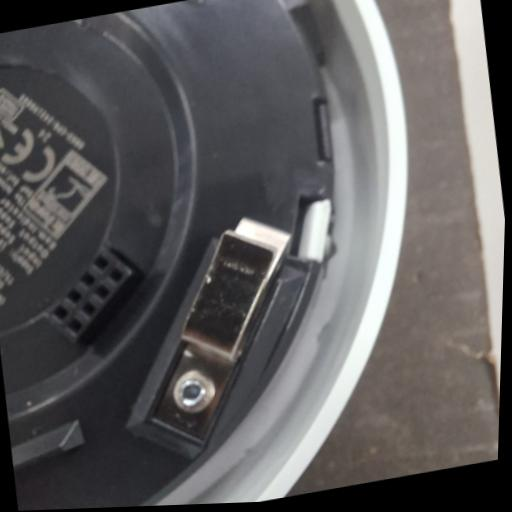yayli: (116, 208, 317, 458)
